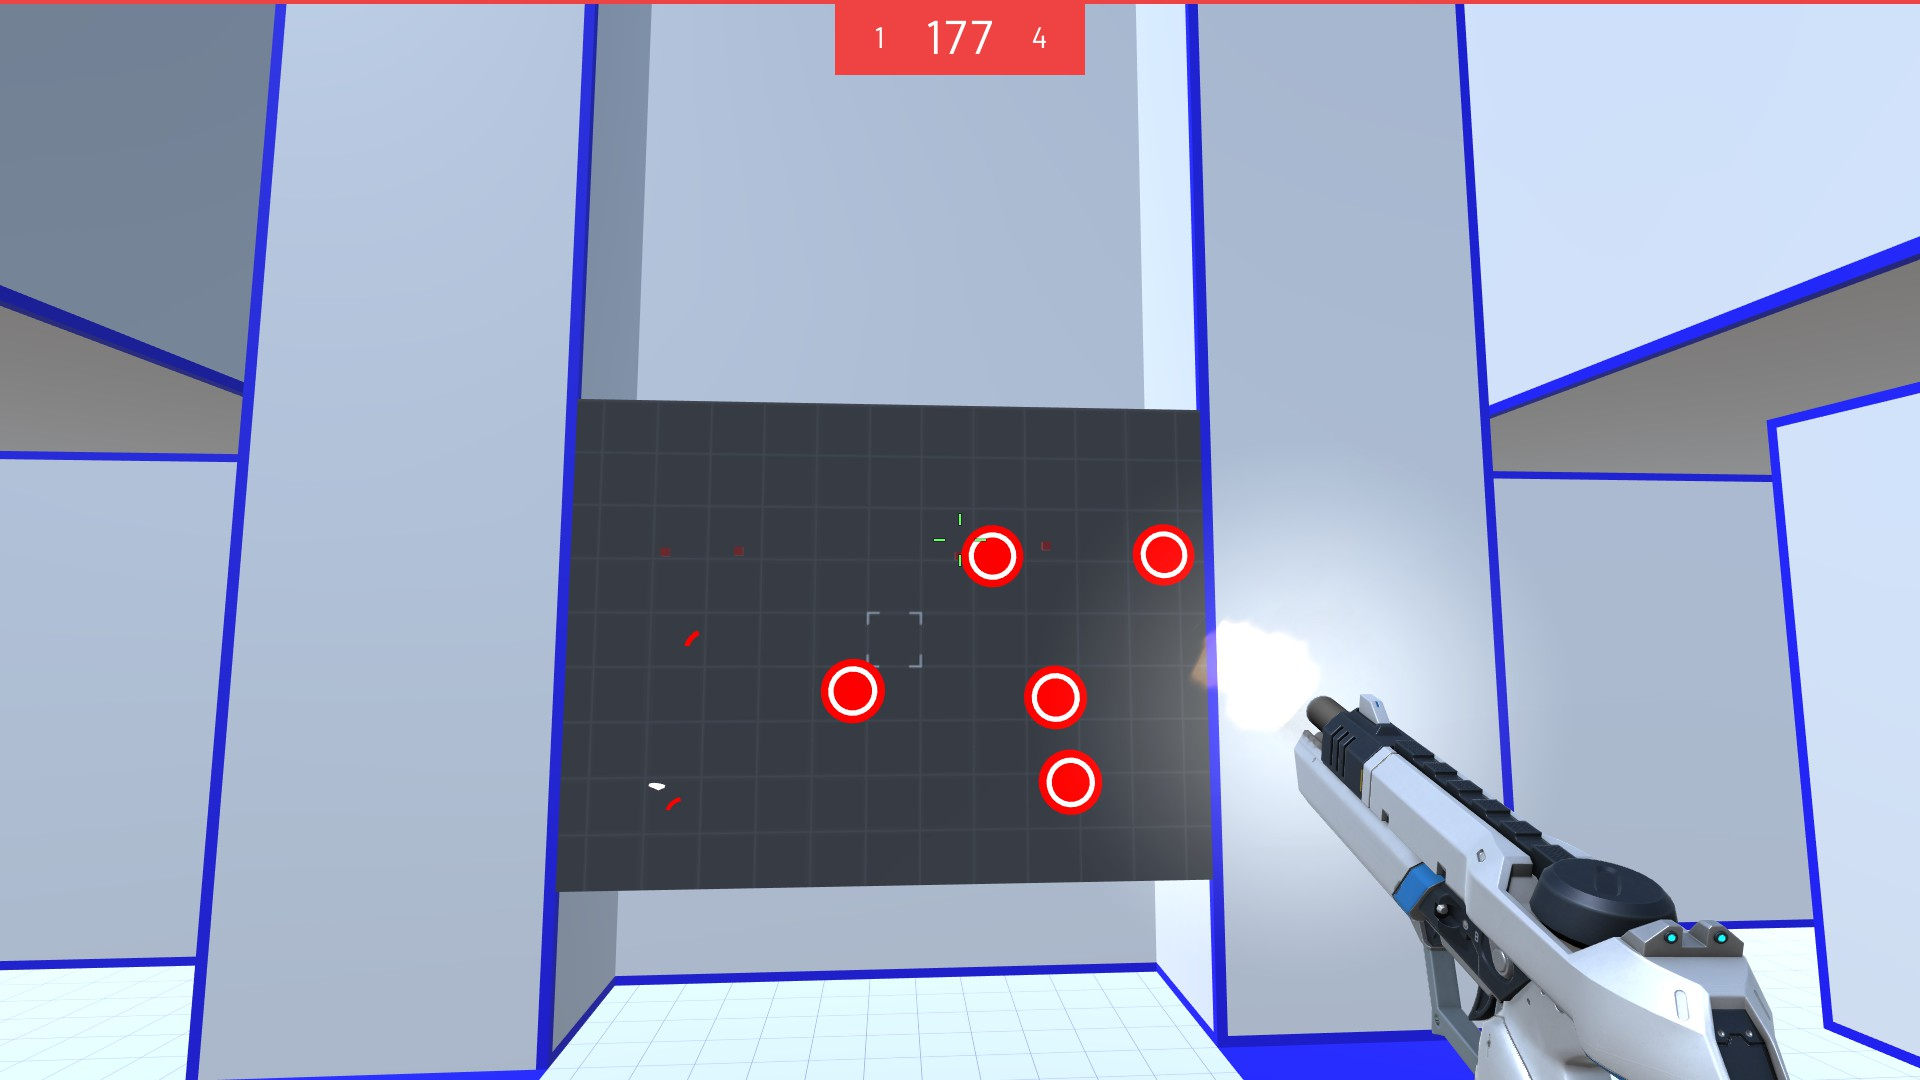target: (816, 655, 891, 727), (959, 518, 1025, 596), (1036, 746, 1105, 815), (1021, 666, 1091, 732), (1129, 522, 1193, 588)
